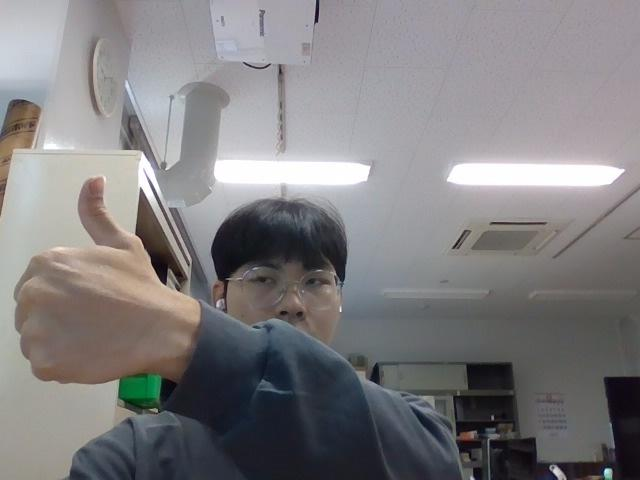thumbs-up: (11, 172, 195, 388)
